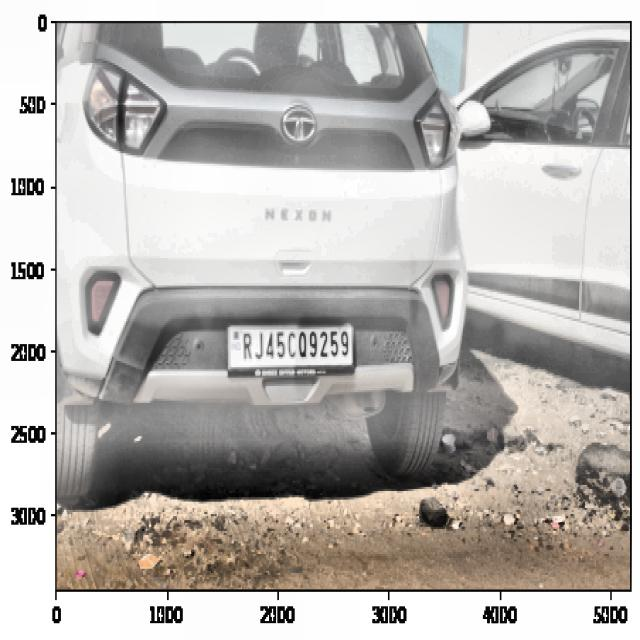license_plate: (234, 327, 355, 362)
